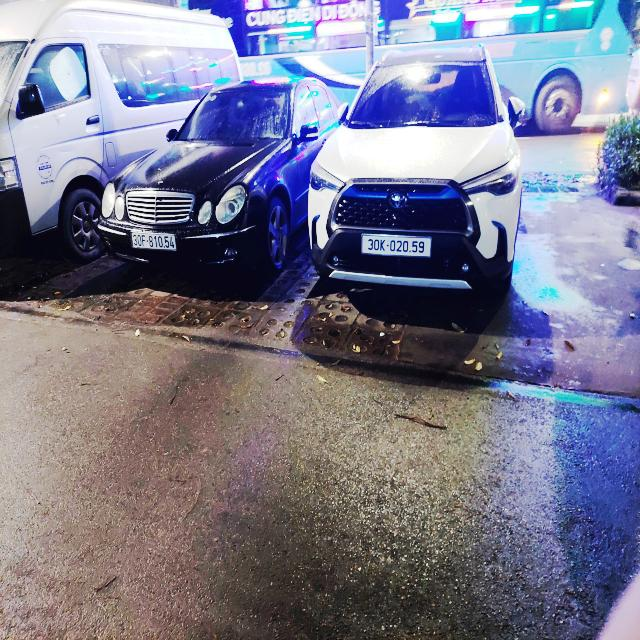license_plate: (361, 235, 433, 259), (131, 232, 178, 252)
